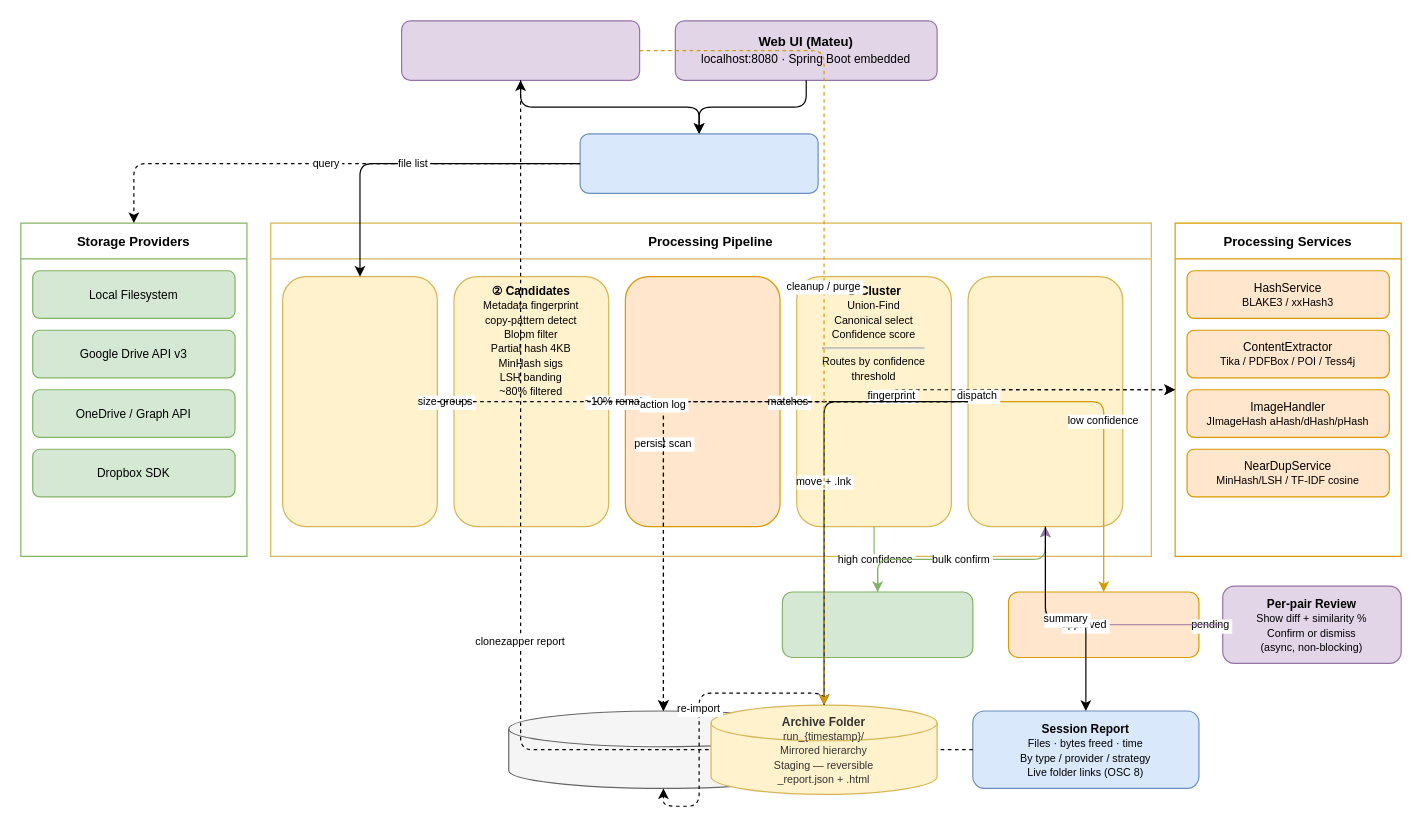
Image size: 1422x837. Some labels were removed from this diagram. The shapes that lost their labels are listed below. From the top down, each one's centre as x and y in pixels, then its label:
At point 520,50: "CLI (picocli) scan / results / stage / cleanup / purge / report / history".
At point 698,163: "UnifiedScanner Orchestrates all providers".
At point 359,401: "① Scan Enumerate files Persist metadata Size grouping".
At point 702,401: "③ Compare Full BLAKE3 hash Text similarity Image pHash Handler dispatch".
At point 1045,401: "⑤ Execute Delete / Move Symlink / Archive Undo log".
At point 877,624: "Auto Queue confidence ≥ threshold Bulk confirm & proceed".
At point 1103,624: "Review Queue confidence < threshold Non-blocking async flow".
At point 663,749: "SQLite (WAL mode) files (+ copy_hint) · duplicate_groups · scan_state · actions".
